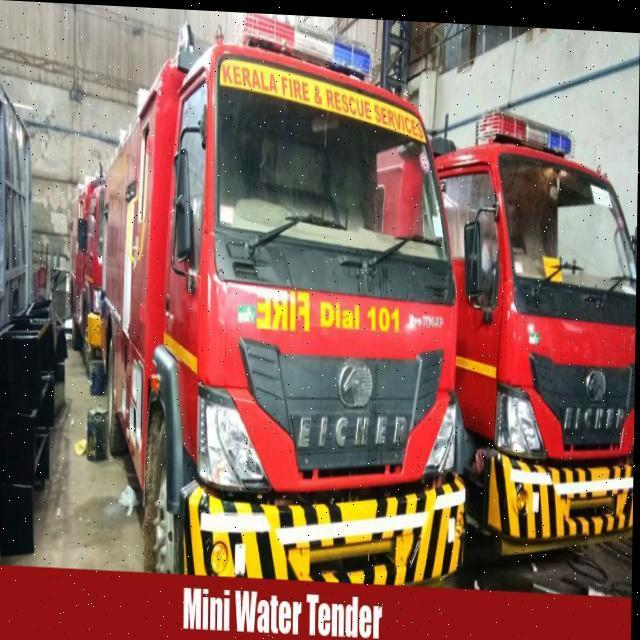Ambulance: (91, 17, 474, 586), (0, 313, 634, 595), (426, 99, 638, 562), (0, 315, 151, 572), (66, 160, 108, 361)
